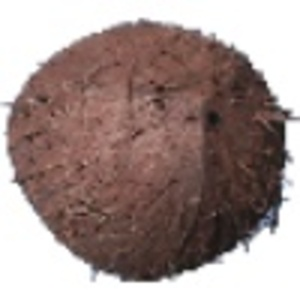coco: (1, 20, 294, 283)
